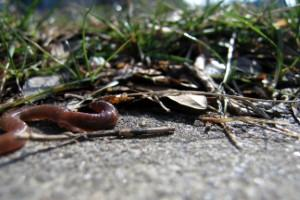earthworms: (12, 79, 176, 150)
